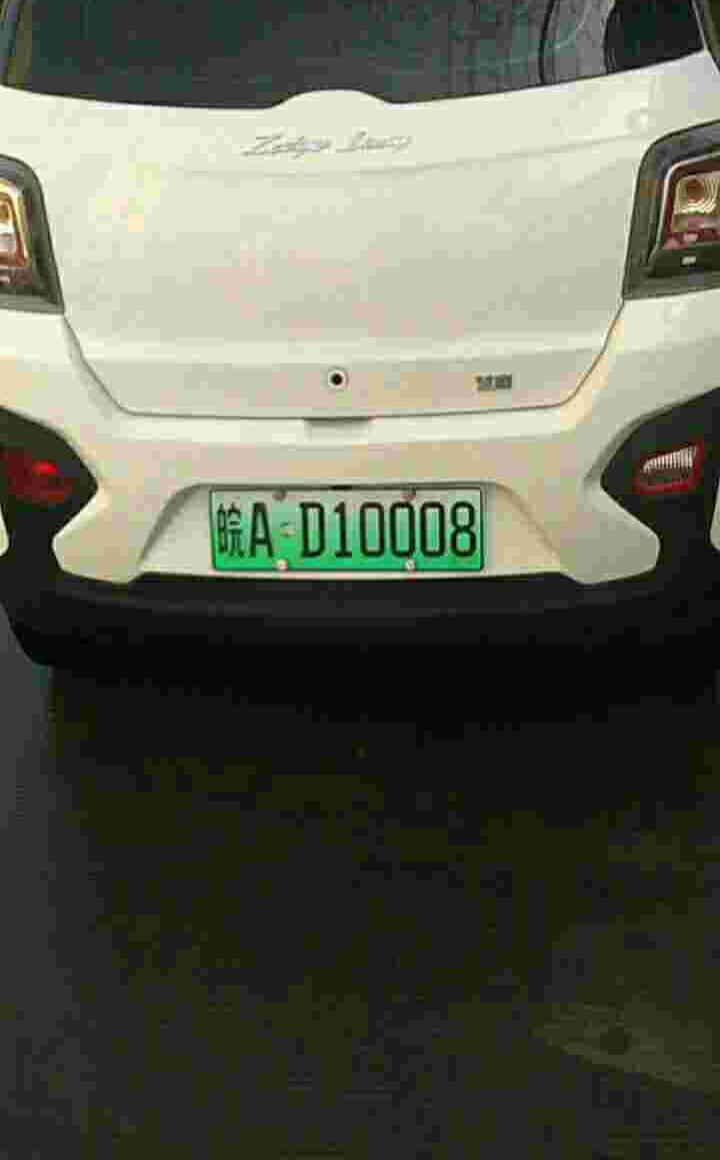car: (209, 477, 503, 585)
